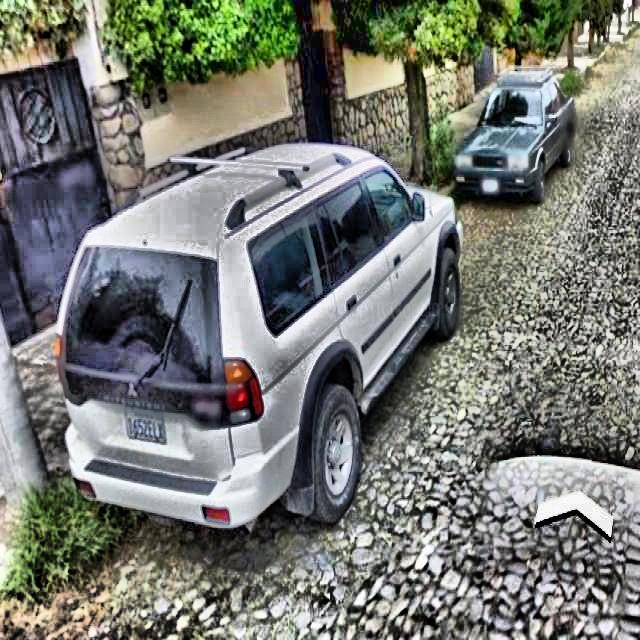carro: (56, 172, 469, 552), (450, 68, 576, 204)
